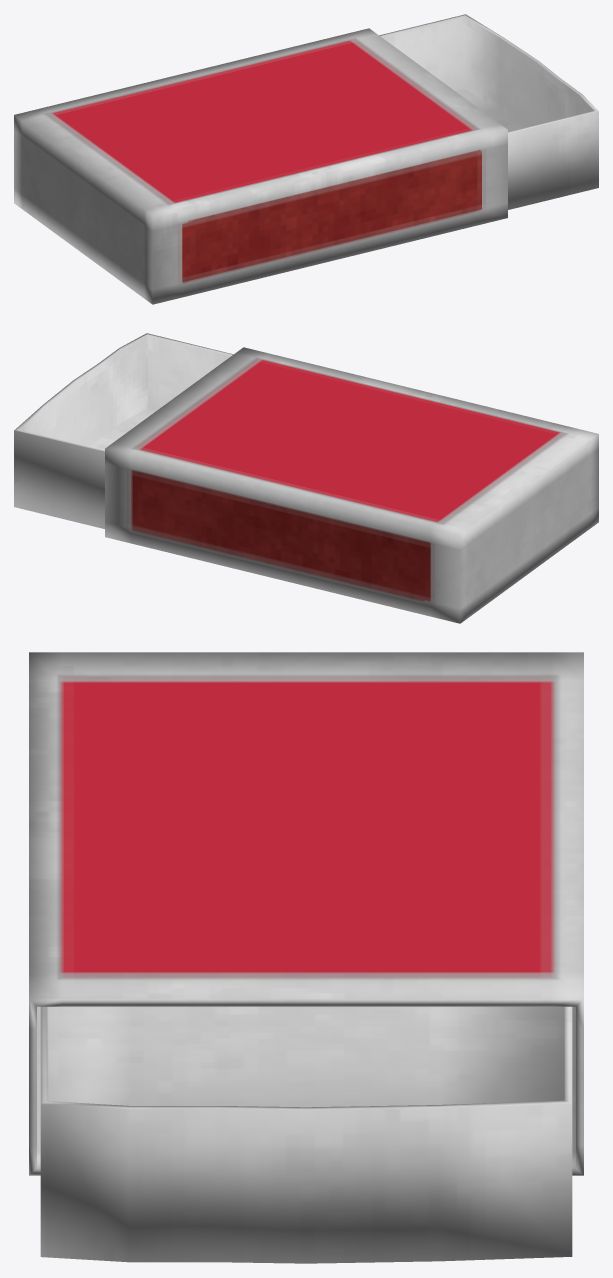
Rendered from marches_box.fbx.
3 views of the same model, one above another, from view 1: azimuth 30°, elevation 25°; view 2: azimuth 150°, elevation 25°; view 3: azimuth 270°, elevation 25° (orthographic). The views are drawn at different scales.
Visible parts, largest first — view 1: matches_box, matches_inside; view 2: matches_box, matches_inside; view 3: matches_box, matches_inside.
Boxes of the visible parts, x1,y1,x2,y2 form: matches_box: (14, 28, 507, 304); matches_inside: (379, 14, 598, 209); matches_box: (105, 347, 598, 623); matches_inside: (14, 333, 233, 528); matches_box: (29, 652, 583, 1175); matches_inside: (40, 1006, 572, 1263).
Bounding box in the file's own units: 57.52 × 30.3 × 10.65.
